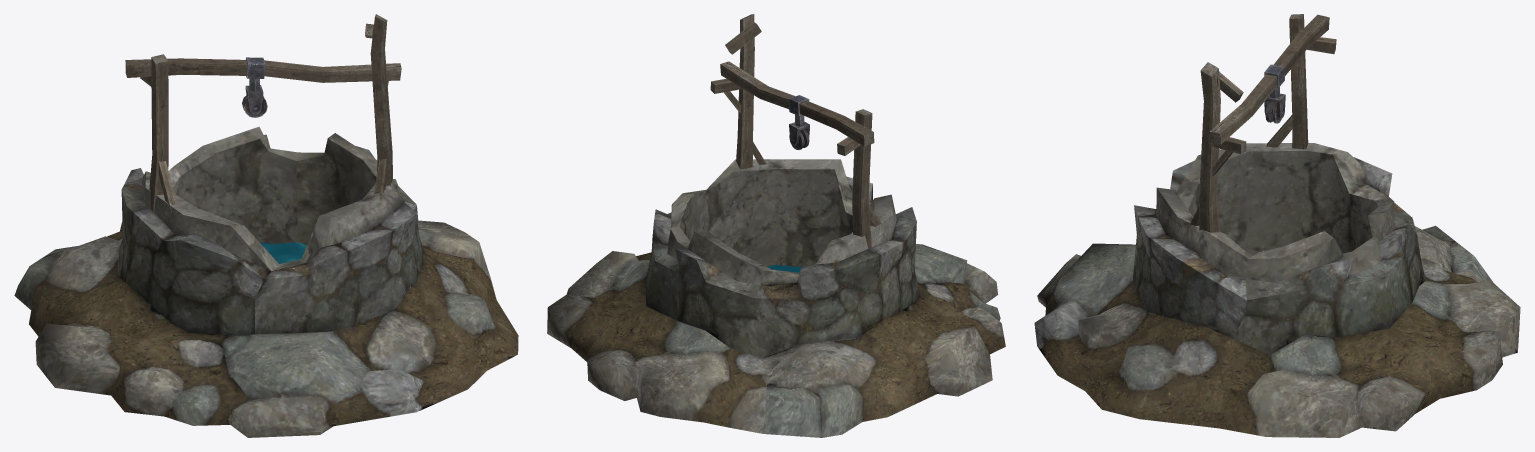
File: zshh_shuijing_01.FBX
3 renders of one model, left to right at view 1: azimuth 30°, elevation 25°; view 2: azimuth 150°, elevation 25°; view 3: azimuth 270°, elevation 25°, orthographic. The views are drawn at different scales.
Parts seen in each view (by area): view 1: zshh_shuijing_01; view 2: zshh_shuijing_01; view 3: zshh_shuijing_01.
Boxes of the visible parts, x1=… form: zshh_shuijing_01: x1=14, y1=14, x2=518, y2=437; zshh_shuijing_01: x1=547, y1=14, x2=1005, y2=437; zshh_shuijing_01: x1=1034, y1=14, x2=1520, y2=437.
Bounding box in the file's own units: 191 × 190 × 146.
